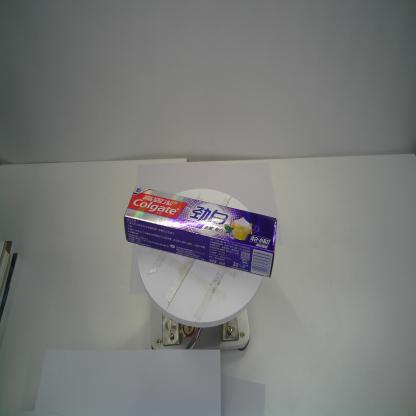Personal Hygiene: (121, 186, 278, 284)
